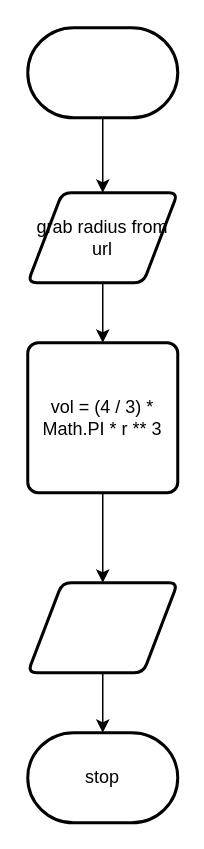
This 204x849 diagram has some shape labels left out. The shapes that lost their labels are listed below. From the top down, each one's centre as x and y in pixels, then its label:
At (x=102, y=72): "start".
At (x=102, y=627): "print radius and answer".
